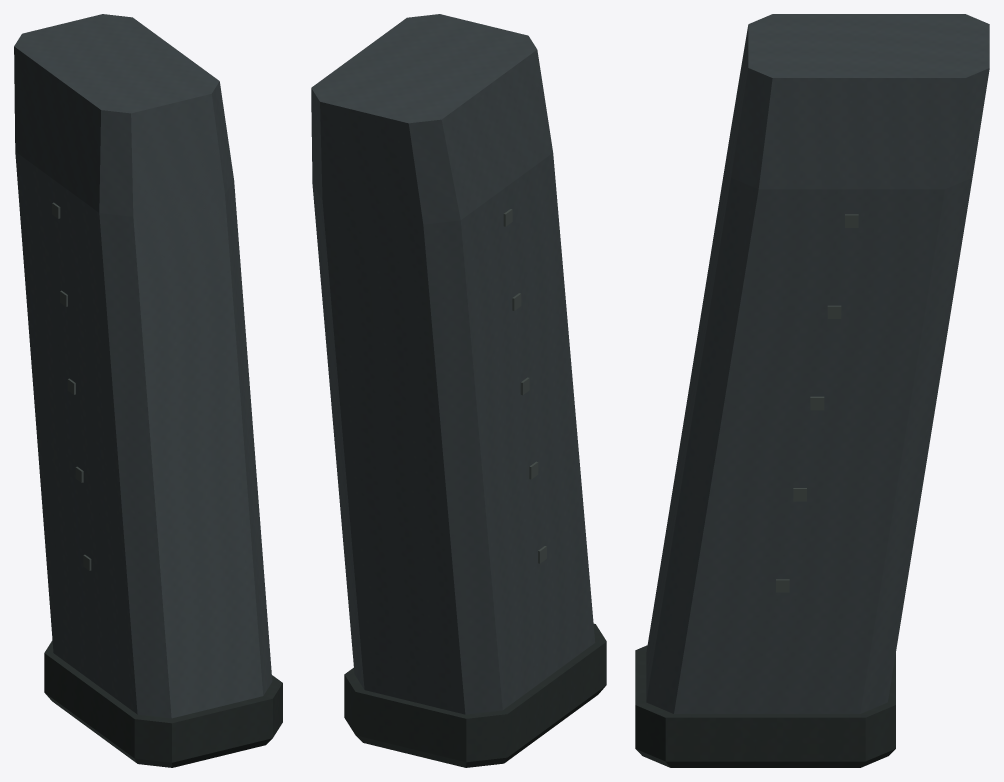
The picture shows the model from 3 angles, left to right: view 1: azimuth 30°, elevation 25°; view 2: azimuth 150°, elevation 25°; view 3: azimuth 270°, elevation 25°; orthographic projection. The views are drawn at different scales.
Visible parts, largest first — view 1: m17_17_individual_shell, m17_17_individual_shell.001, m17_17_floorplate, m17_17_witness_inset; view 2: m17_17_individual_shell, m17_17_individual_shell.001, m17_17_floorplate, m17_17_witness_inset; view 3: m17_17_individual_shell, m17_17_individual_shell.001, m17_17_floorplate, m17_17_witness_inset.
Part boxes in pixels (box(x1,y1,x2,y2)): m17_17_individual_shell: box(14, 14, 272, 718); m17_17_individual_shell.001: box(23, 94, 271, 717); m17_17_floorplate: box(44, 640, 282, 767); m17_17_witness_inset: box(52, 202, 91, 570); m17_17_individual_shell: box(311, 14, 594, 714); m17_17_individual_shell.001: box(320, 102, 594, 714); m17_17_floorplate: box(344, 623, 606, 767); m17_17_witness_inset: box(503, 209, 546, 563); m17_17_individual_shell: box(646, 14, 989, 713); m17_17_individual_shell.001: box(647, 27, 954, 713); m17_17_floorplate: box(635, 645, 895, 767); m17_17_witness_inset: box(776, 214, 858, 592).
Bounding box in the file's own units: 0.055 × 0.219 × 0.1028.
Materials: 3 (2 with a texture image).
